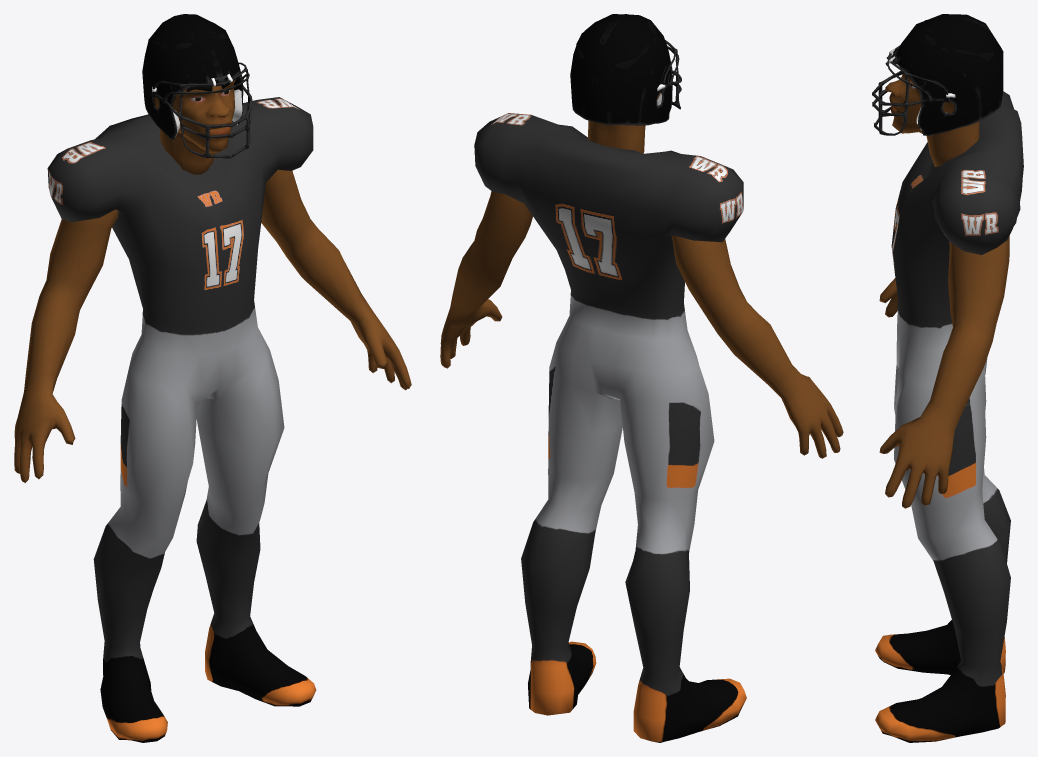
The model's file is american_football_player_cartoon_2.glb.
3 renders of one model, left to right at view 1: azimuth 30°, elevation 25°; view 2: azimuth 150°, elevation 25°; view 3: azimuth 270°, elevation 25°, orthographic.
Visible parts, largest first — view 1: body_low, arms_low, Helmet_low, face_low; view 2: body_low, arms_low, Helmet_low, face_low; view 3: body_low, arms_low, Helmet_low, face_low.
Part boxes in pixels (<box>): body_low: <box>47,97,316,742</box>; arms_low: <box>14,169,411,482</box>; Helmet_low: <box>142,14,252,158</box>; face_low: <box>148,33,235,174</box>; body_low: <box>474,113,746,742</box>; arms_low: <box>440,191,843,458</box>; Helmet_low: <box>570,14,681,125</box>; face_low: <box>576,14,660,153</box>; body_low: <box>875,91,1023,742</box>; arms_low: <box>879,236,1009,508</box>; Helmet_low: <box>872,14,1003,135</box>; face_low: <box>885,20,993,166</box>.
Bounding box in the file's own units: 28.09 × 47.57 × 9.59.
Materials: 2 (2 with a texture image).
